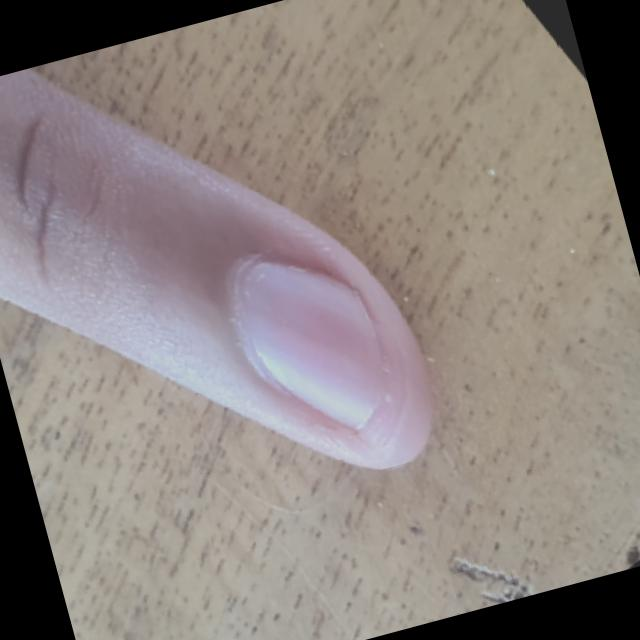Nail: (240, 263, 379, 429)
